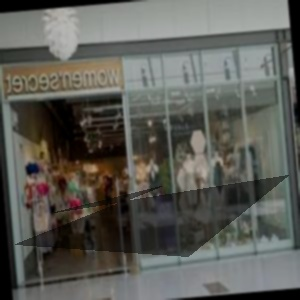women_secret: (119, 32, 122, 96)
